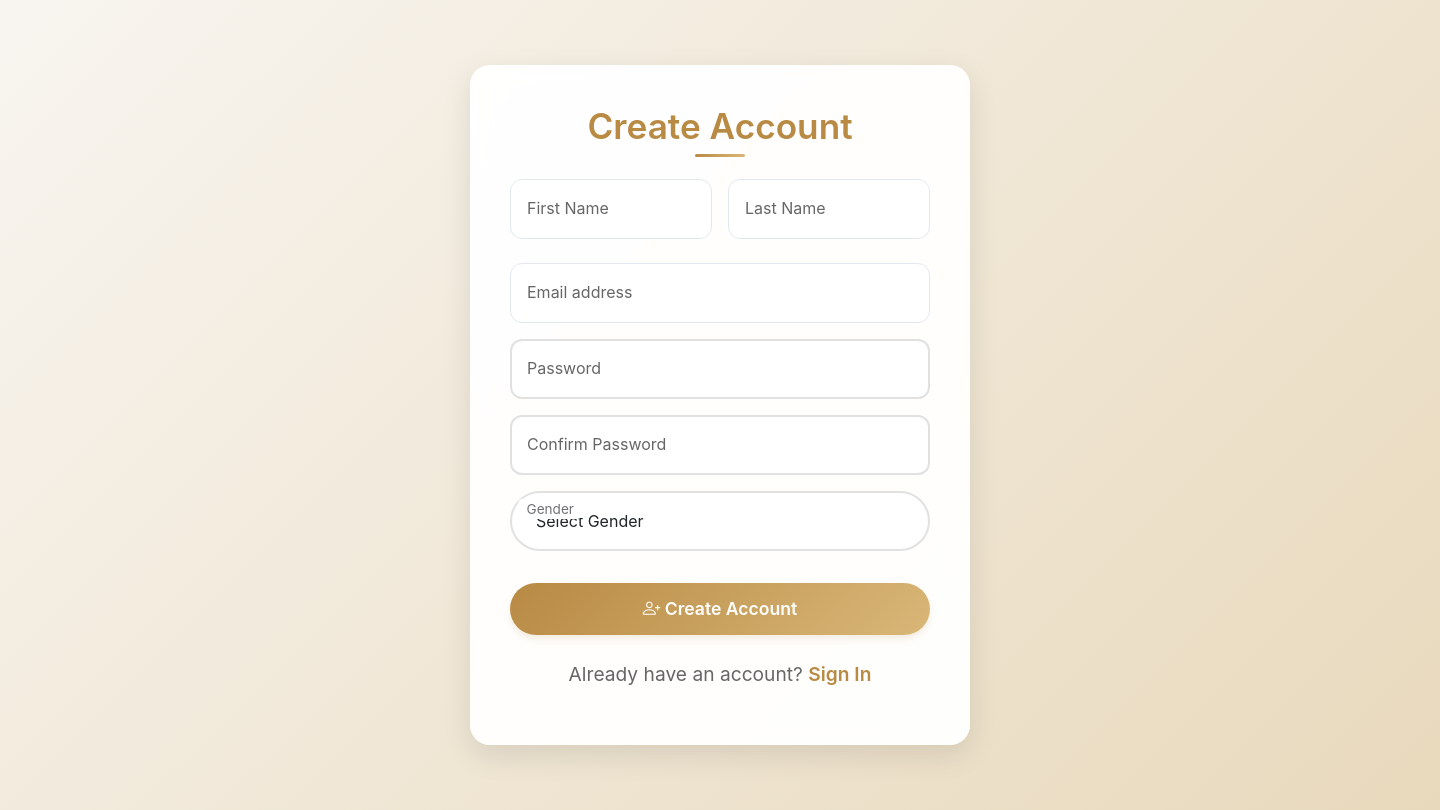
Test: SignUp Component › shows error message when API returns an error
In the field labelled "First Name": (611, 209) [510,179,712,239], type "John"
In the field labelled "Last Name": (829, 209) [728,179,930,239], type "Doe"
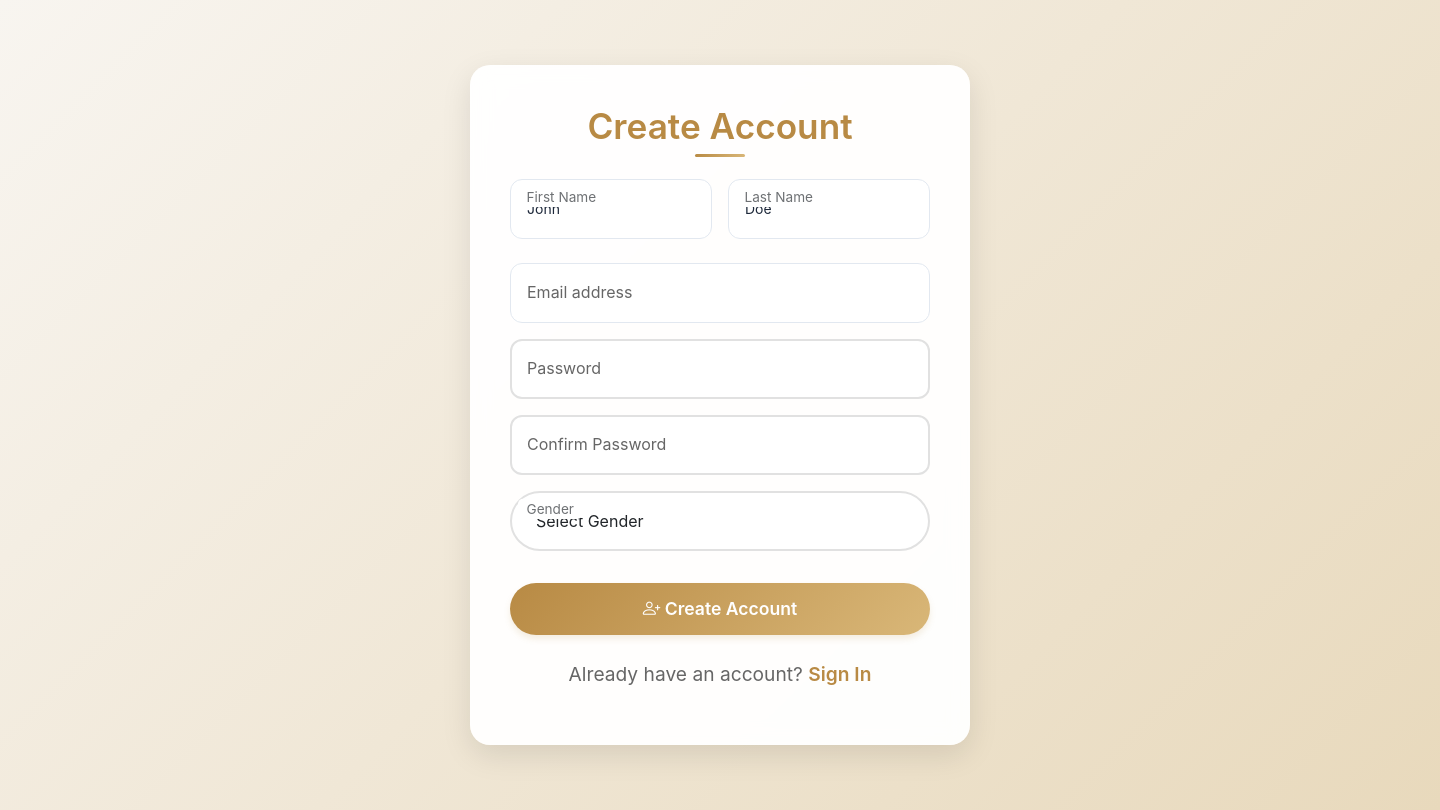
In the field labelled "Email address": (720, 293) [510,263,930,323], type "john.doe@example.com"
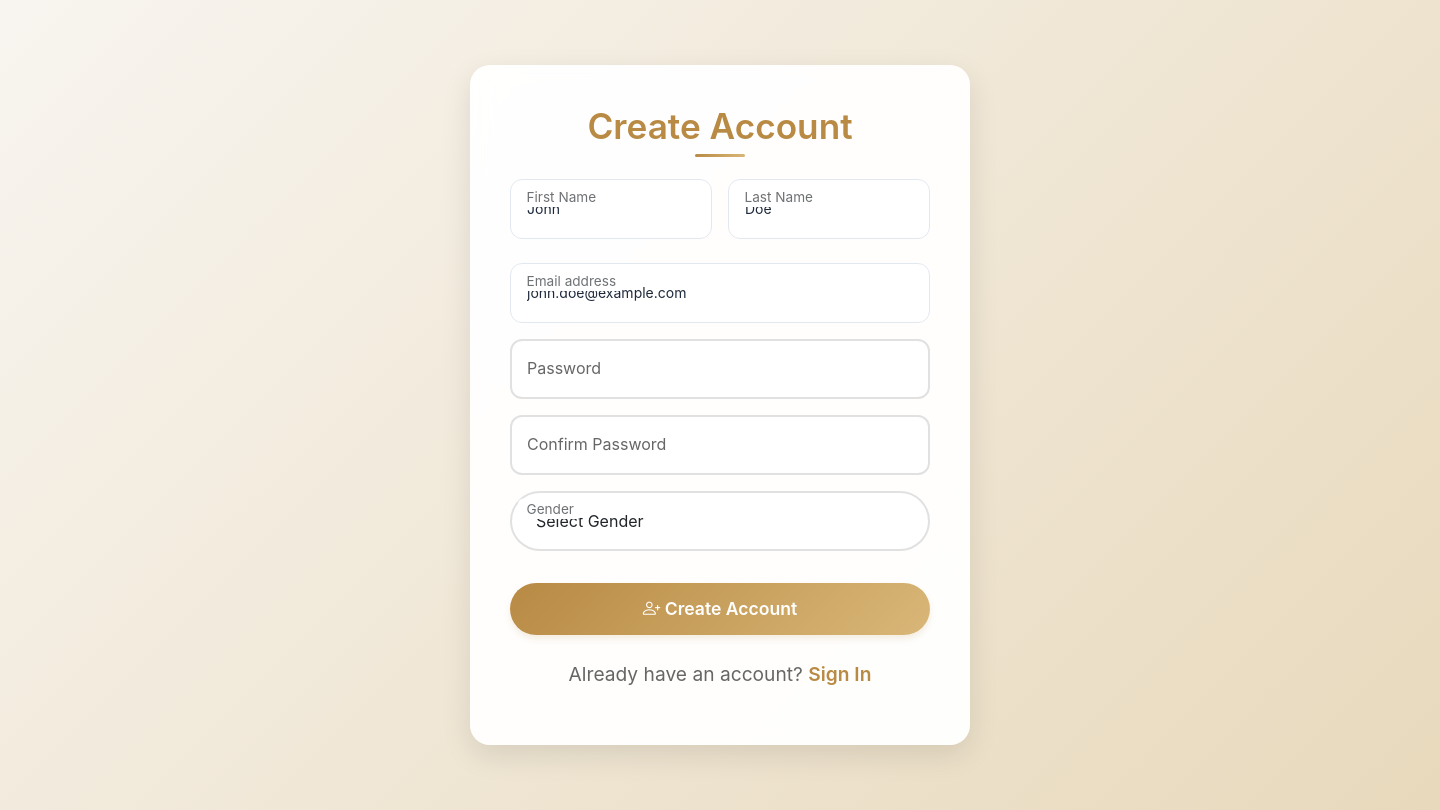
In the password field labelled "Password": (720, 369) [510,339,930,399], type "SecureP4ss"
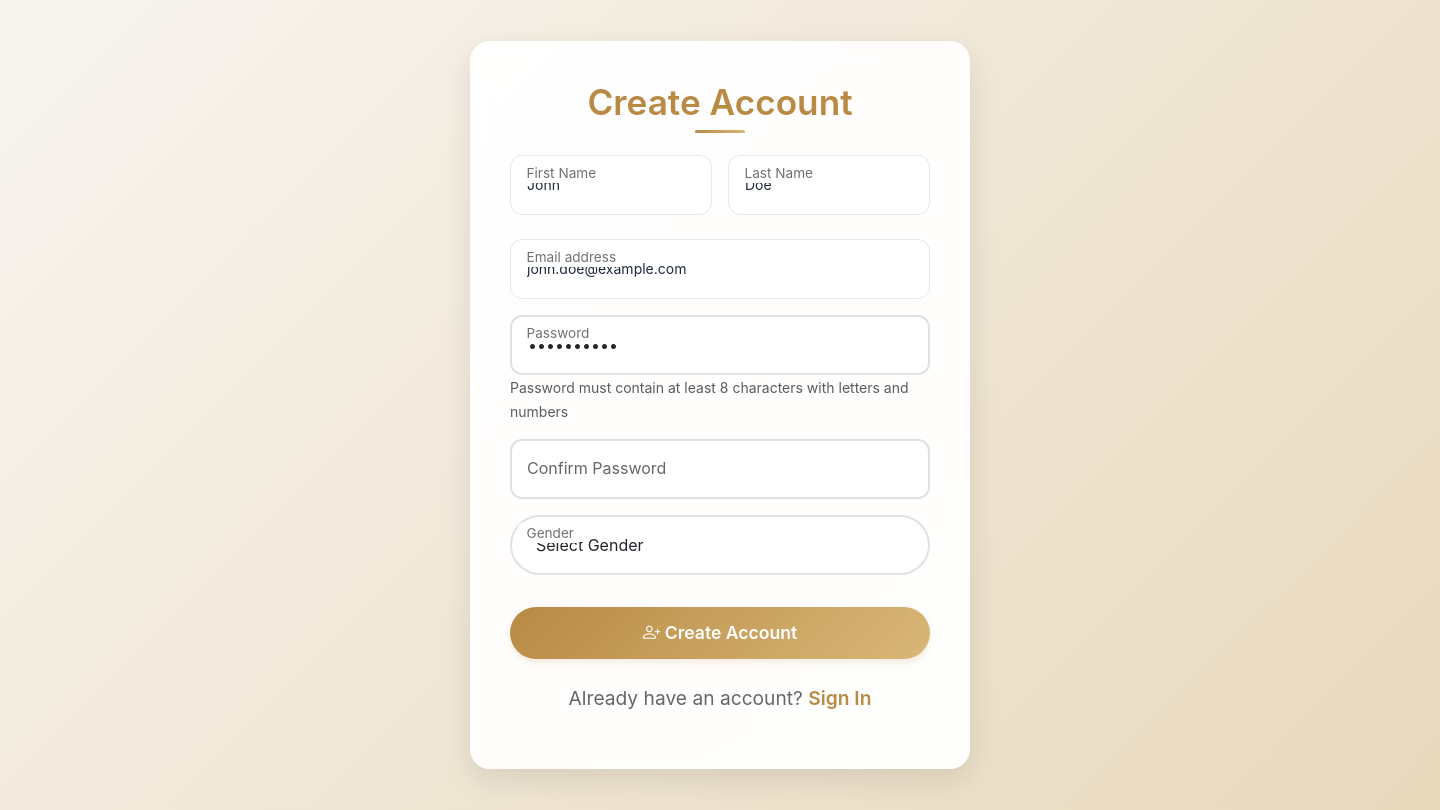
In the password field labelled "Confirm Password": (720, 469) [510,439,930,499], type "SecureP4ss"
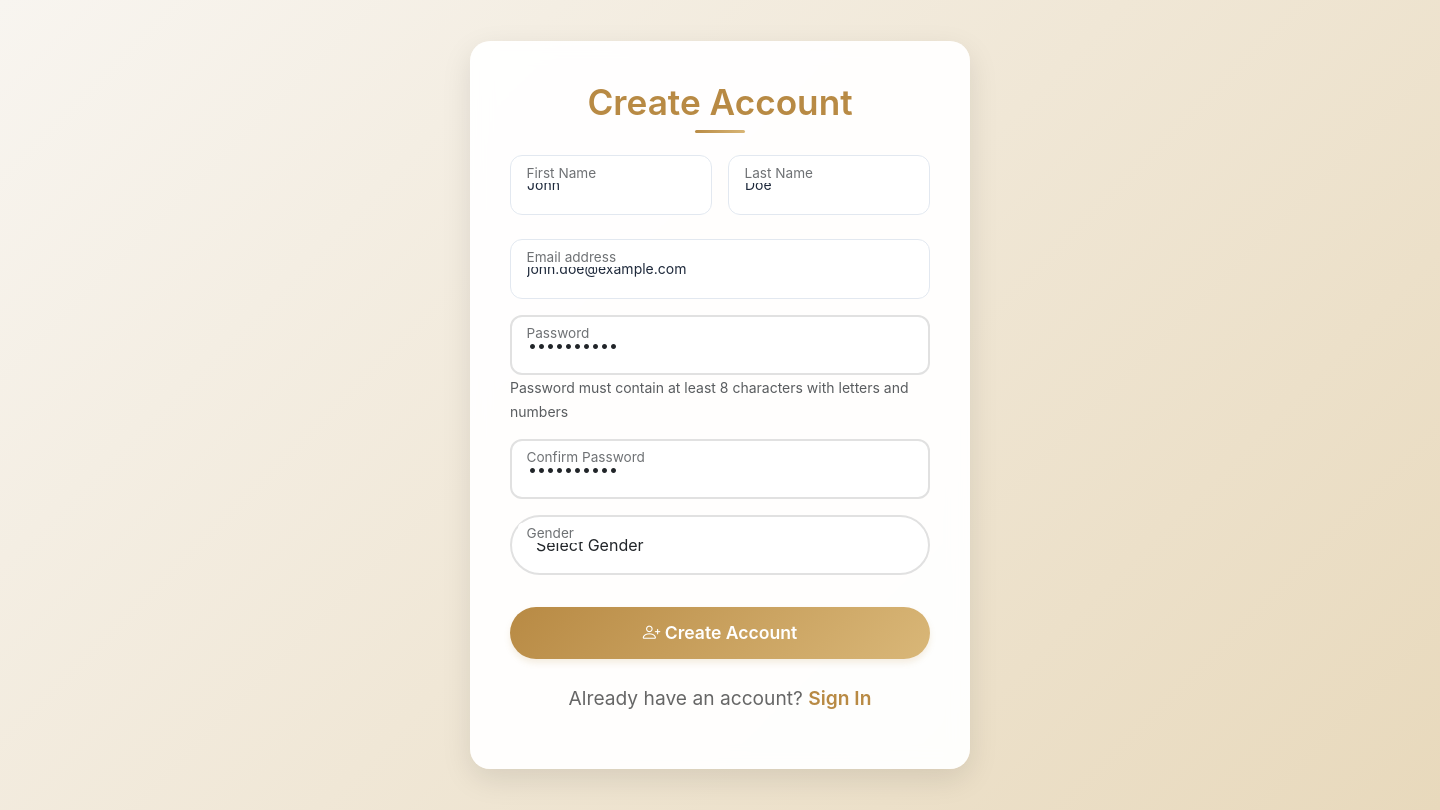
Select "Male" in the dropdown labelled "Gender": (720, 545) [510,515,930,575]
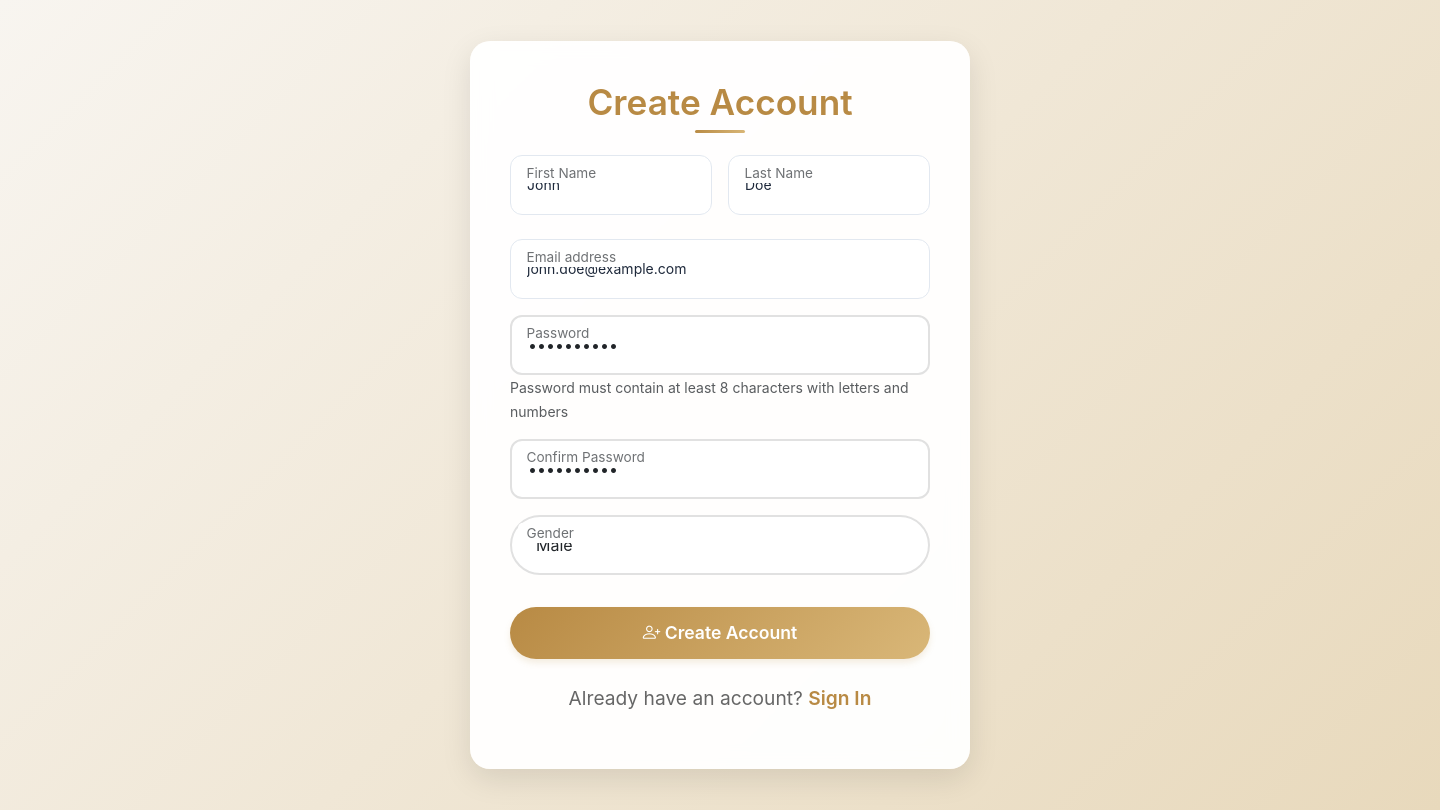
Click the button "Create Account": (720, 633) [510,607,930,659]
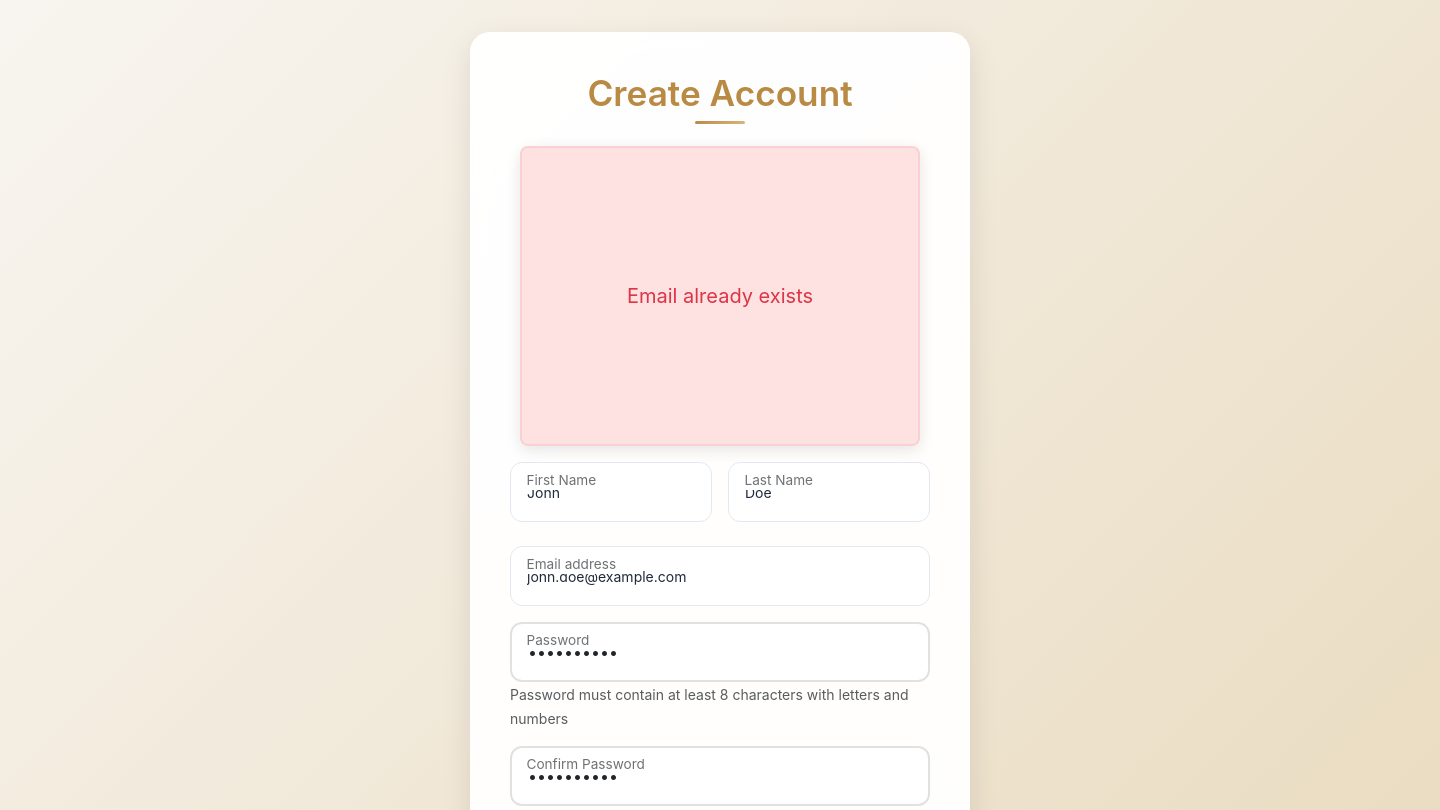
Result: the text "Email already exists" is shown at [520,146,920,446]
